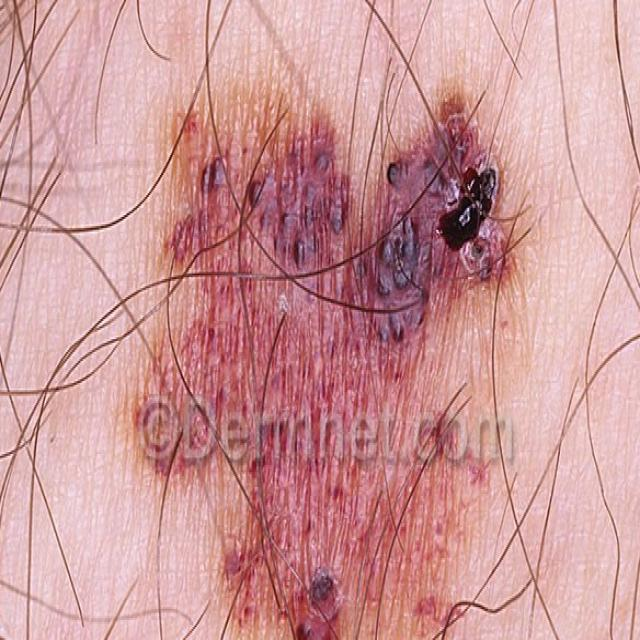Vascular Tumors: (92, 51, 567, 640)
